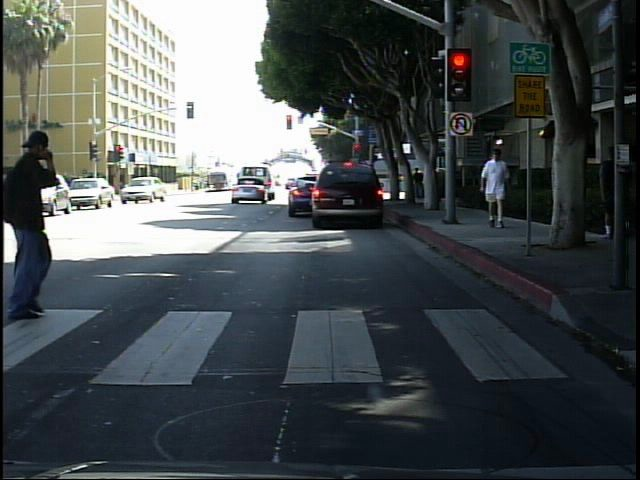person: (6, 122, 75, 336), (599, 138, 632, 246), (474, 145, 513, 230)
